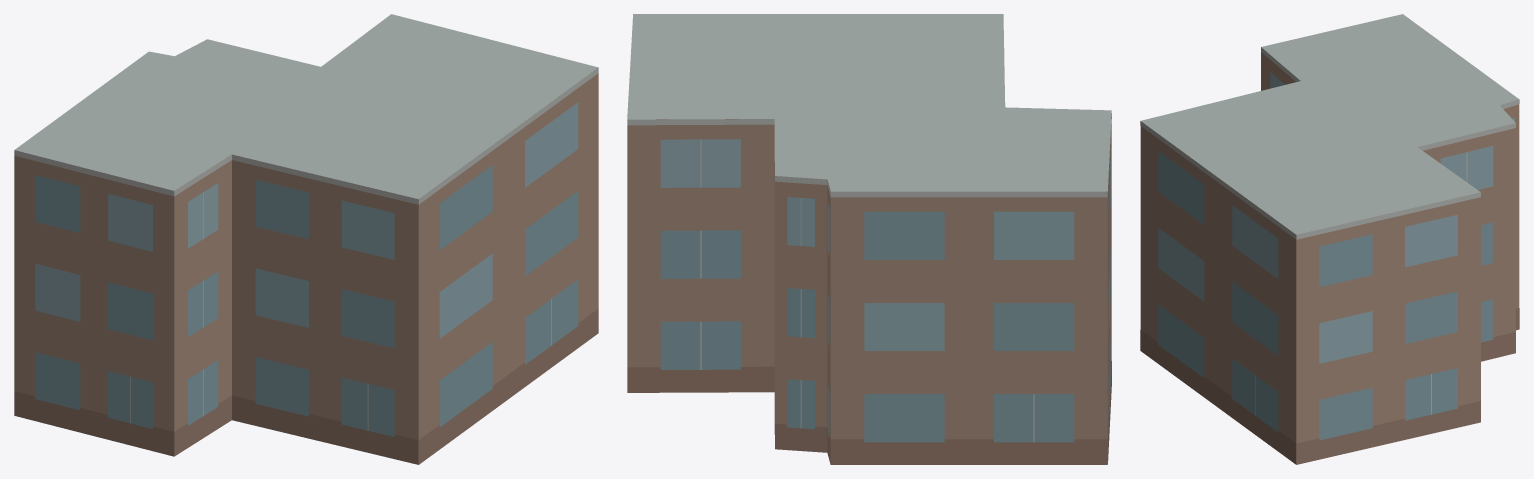
Rendered from survey-upis-32616593.glb.
3 renders of one model, left to right at view 1: azimuth 30°, elevation 25°; view 2: azimuth 150°, elevation 25°; view 3: azimuth 270°, elevation 25°, orthographic. The views are drawn at different scales.
Parts seen in each view (by area): view 1: survey-upis-32616593.tmp; view 2: survey-upis-32616593.tmp; view 3: survey-upis-32616593.tmp.
Boxes of the visible parts, x1,y1,x2,y2 form: survey-upis-32616593.tmp: (14, 14, 598, 464); survey-upis-32616593.tmp: (627, 14, 1111, 464); survey-upis-32616593.tmp: (1140, 14, 1519, 464).
Size of the model in its own units: 24.11 by 11.7 by 17.48.
